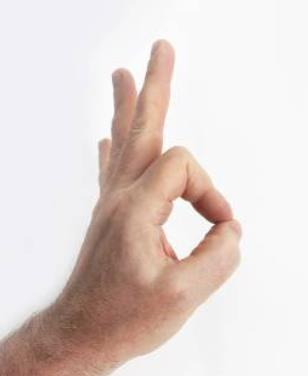left: (71, 32, 248, 362)
